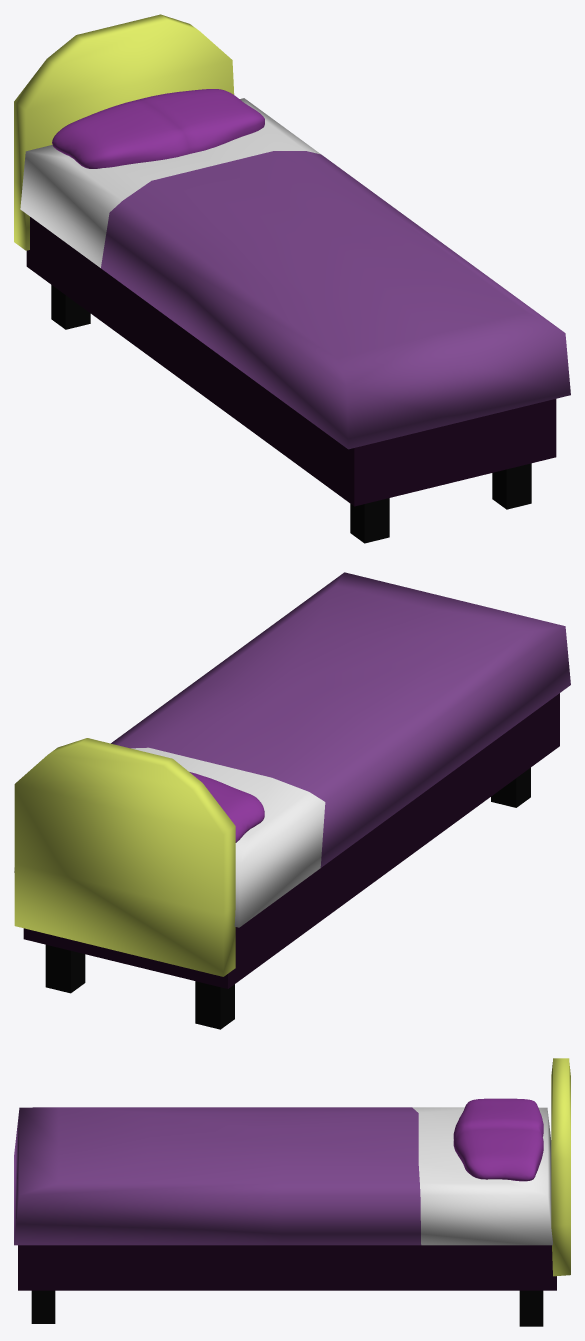
Rendered from Bedkid.fbx.
3 renders of one model, top to bottom at view 1: azimuth 30°, elevation 25°; view 2: azimuth 150°, elevation 25°; view 3: azimuth 270°, elevation 25°, orthographic. The views are drawn at different scales.
Parts seen in each view (by area): view 1: Cube.001, Cube, Cube.003, Cube.004, Cube.002; view 2: Cube.001, Cube.003, Cube, Cube.002, Cube.004; view 3: Cube.001, Cube, Cube.004, Cube.003, Cube.002.
Boxes of the visible parts, x1,y1,x2,y2 form: Cube.001: (20,98,570,449); Cube: (26,217,556,506); Cube.003: (14,14,234,250); Cube.004: (52,89,264,168); Cube.002: (51,285,531,543); Cube.001: (14,572,570,927); Cube.003: (14,738,235,976); Cube: (23,693,559,988); Cube.002: (45,767,530,1029); Cube.004: (189,772,264,842); Cube.001: (14,1107,552,1245); Cube: (18,1245,556,1290); Cube.004: (453,1098,543,1181); Cube.003: (551,1058,570,1276); Cube.002: (31,1290,543,1326).
Size of the model in its own units: 219 by 247 by 577.
